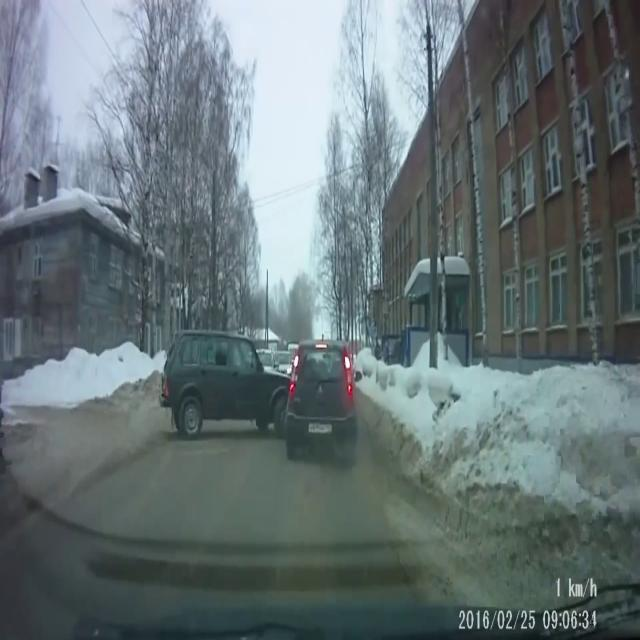accident: (177, 324, 367, 462)
